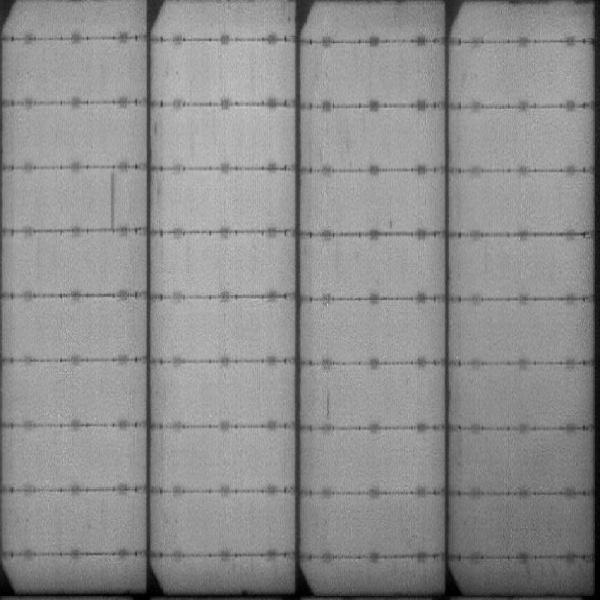scratch: (105, 171, 122, 229)
